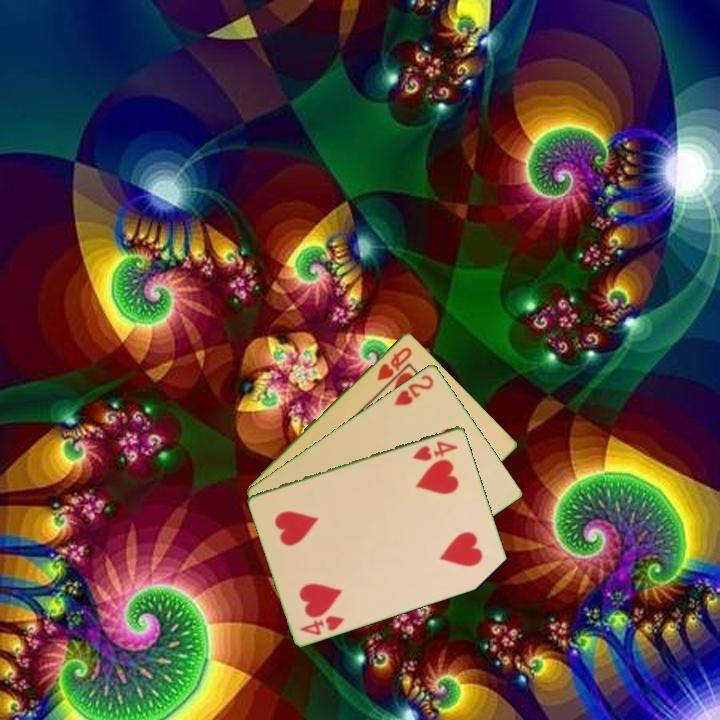2h: (391, 371, 437, 408)
4h: (409, 437, 460, 464), (297, 612, 347, 638)
Qh: (373, 343, 415, 384)
